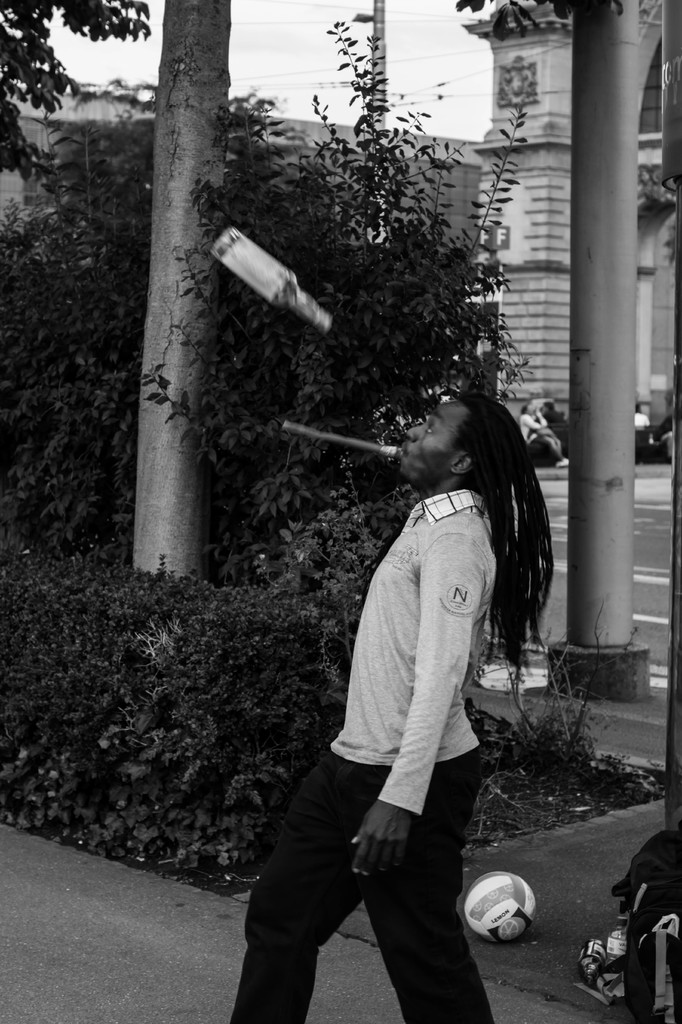Tree: (0, 0, 681, 894)
